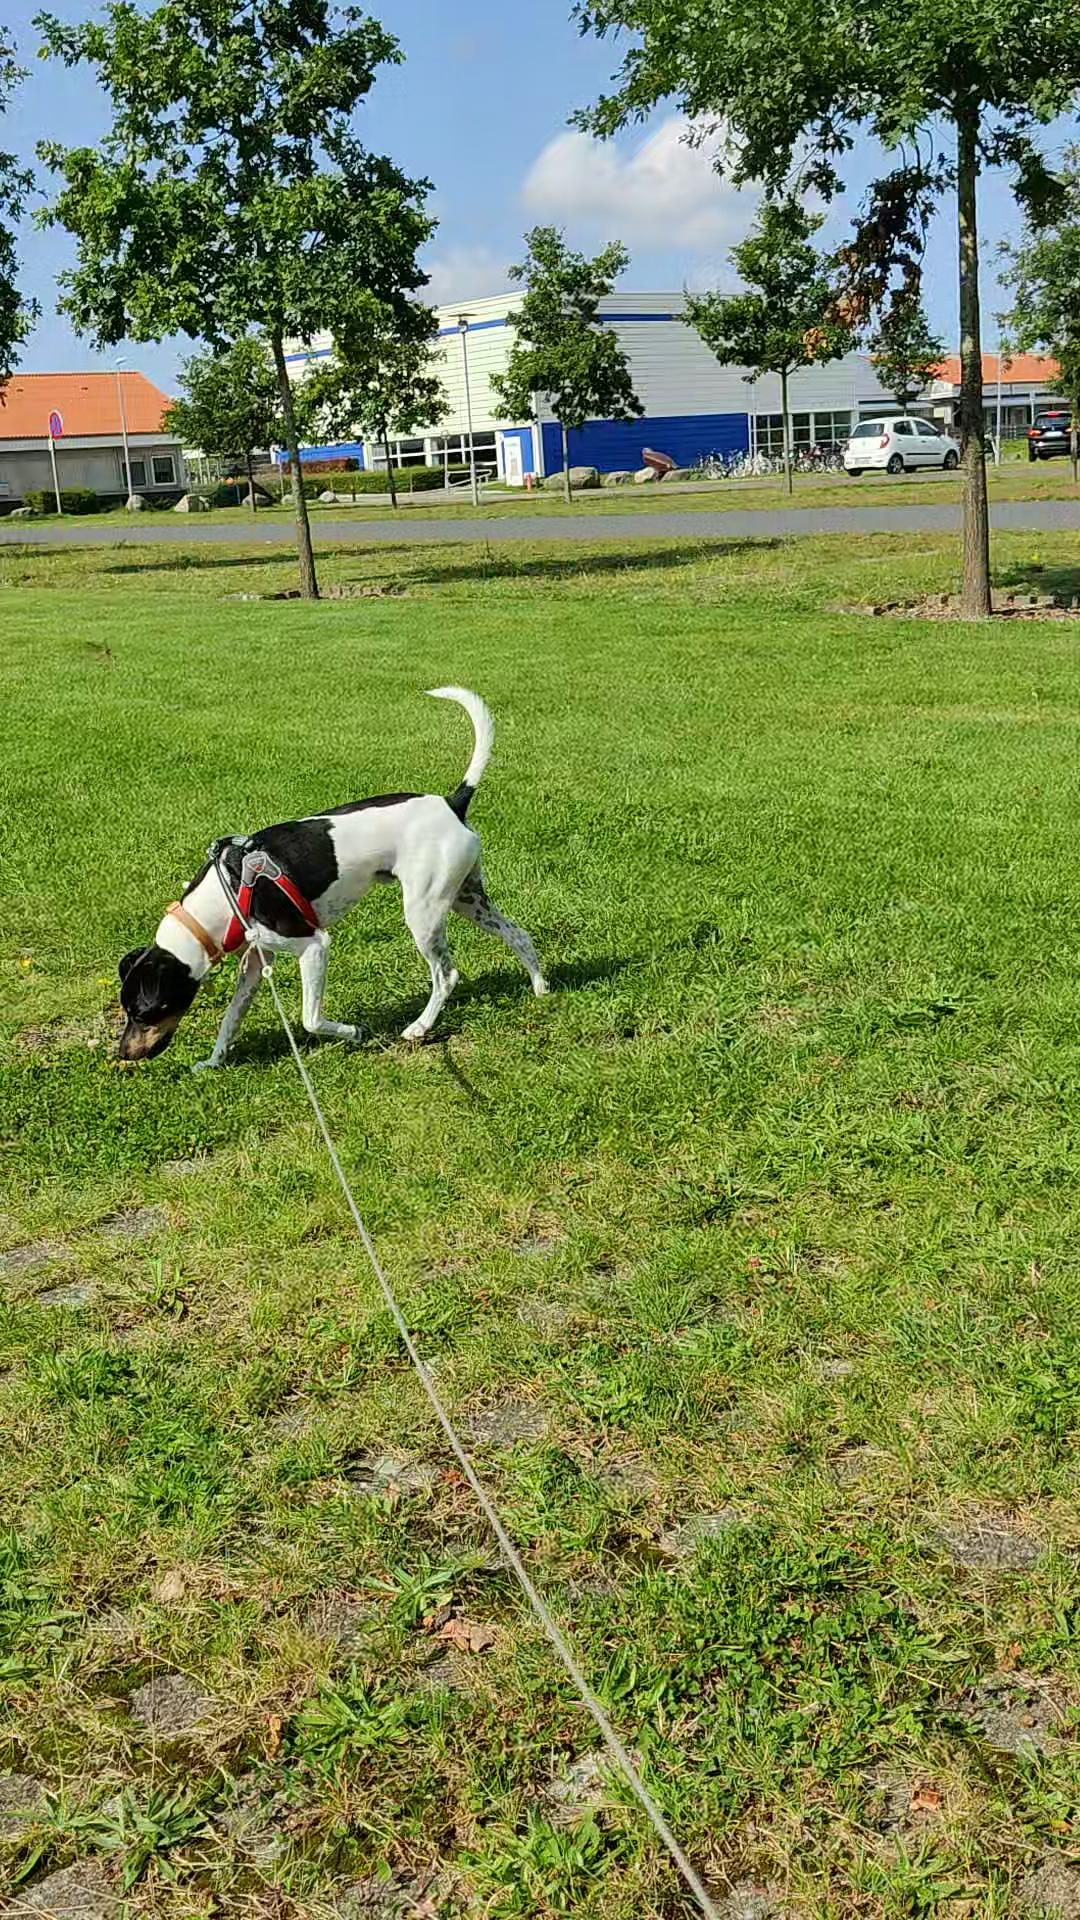Dog: (98, 680, 556, 1072)
